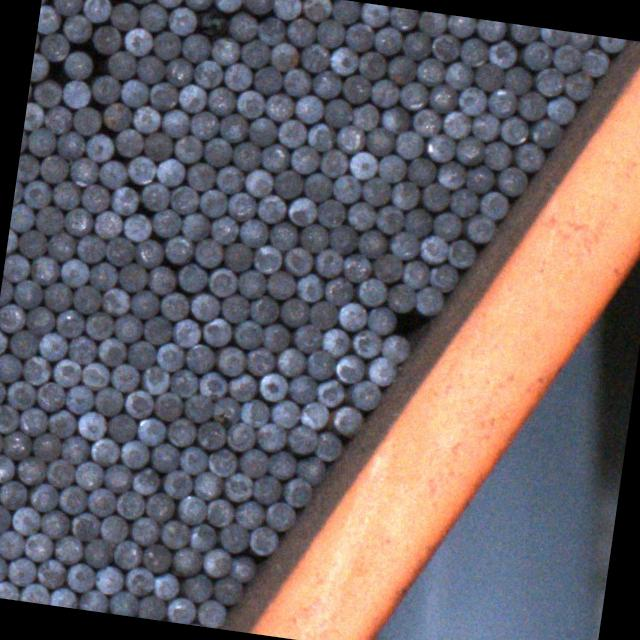tool: (448, 185, 481, 218), (348, 379, 382, 411), (214, 344, 247, 376), (298, 222, 330, 255), (58, 255, 90, 288), (75, 409, 107, 442), (33, 205, 65, 238), (222, 472, 255, 504), (232, 499, 264, 532), (180, 572, 213, 604), (304, 346, 336, 379), (496, 165, 528, 197), (276, 296, 308, 328), (272, 168, 304, 200), (332, 352, 364, 384), (282, 244, 314, 276), (226, 422, 258, 454), (484, 86, 516, 118), (534, 65, 566, 97), (246, 116, 278, 148), (314, 198, 346, 230), (264, 501, 296, 533), (238, 446, 270, 478), (247, 524, 279, 556), (258, 140, 290, 172), (82, 536, 114, 568), (314, 18, 346, 50), (388, 228, 420, 260), (232, 319, 264, 351), (364, 126, 396, 158), (266, 448, 298, 480), (454, 133, 486, 165), (164, 416, 196, 448), (457, 35, 489, 67), (206, 446, 238, 478), (68, 154, 100, 186), (281, 477, 313, 509), (370, 251, 402, 283), (132, 237, 164, 269), (158, 290, 190, 322), (144, 264, 176, 296), (520, 39, 552, 71), (151, 390, 183, 422), (342, 21, 374, 53), (166, 4, 198, 36), (562, 69, 594, 101), (254, 422, 286, 454), (120, 210, 152, 242), (356, 228, 388, 260), (96, 158, 128, 190), (84, 130, 116, 162), (330, 404, 362, 436), (256, 14, 288, 46), (300, 169, 332, 201), (322, 274, 354, 306), (551, 43, 583, 75), (142, 132, 174, 164), (139, 542, 171, 574), (170, 545, 202, 577), (294, 452, 326, 484), (133, 54, 165, 86), (64, 382, 96, 414), (286, 424, 318, 456), (83, 309, 114, 342), (328, 222, 359, 255), (29, 253, 60, 286), (374, 203, 405, 236), (401, 28, 432, 61), (37, 508, 70, 539), (15, 456, 48, 487), (107, 49, 138, 82), (528, 118, 562, 148), (195, 421, 227, 452), (384, 53, 416, 84), (254, 192, 286, 223), (84, 487, 116, 518), (222, 241, 254, 272), (275, 118, 306, 150), (233, 88, 264, 120), (292, 322, 323, 354), (56, 484, 88, 515), (360, 174, 391, 206), (68, 509, 99, 541), (12, 278, 43, 310), (337, 300, 368, 332), (154, 340, 186, 371), (160, 468, 192, 499), (193, 238, 224, 270), (152, 208, 183, 240), (340, 72, 371, 104), (341, 252, 372, 284), (95, 334, 126, 366), (196, 598, 227, 630), (293, 92, 324, 124), (142, 315, 174, 346), (101, 463, 132, 495), (243, 166, 274, 198), (159, 106, 190, 138), (307, 300, 338, 332), (125, 566, 156, 598), (109, 184, 140, 216), (385, 282, 416, 314), (64, 560, 95, 592), (514, 90, 546, 121), (17, 226, 48, 258), (78, 183, 110, 214), (424, 133, 456, 164), (206, 265, 237, 297), (208, 36, 239, 68), (106, 412, 137, 444), (113, 126, 144, 158), (226, 191, 258, 222), (218, 293, 250, 324), (200, 316, 231, 348), (183, 341, 214, 373), (126, 338, 157, 370), (8, 329, 40, 360), (1, 429, 32, 461), (212, 574, 244, 605), (169, 184, 200, 216), (93, 562, 124, 594), (323, 96, 354, 128), (68, 334, 99, 366), (148, 442, 180, 473), (50, 178, 81, 210), (143, 490, 174, 522), (264, 269, 296, 300), (45, 230, 76, 262), (92, 384, 123, 416), (239, 398, 271, 429), (512, 140, 544, 171), (128, 288, 159, 320), (54, 128, 85, 160), (201, 546, 232, 578), (126, 154, 158, 185), (26, 482, 58, 513), (112, 313, 143, 345), (418, 234, 449, 266), (546, 93, 578, 124), (162, 56, 193, 88), (217, 521, 248, 553), (63, 50, 94, 82), (286, 194, 316, 227), (36, 379, 66, 412), (331, 173, 362, 204), (61, 78, 92, 109), (414, 286, 445, 317), (76, 234, 107, 265), (238, 39, 269, 70), (270, 398, 301, 429), (39, 154, 70, 185), (208, 215, 239, 246), (429, 262, 460, 293), (193, 59, 224, 90), (487, 39, 518, 70), (167, 367, 198, 398), (163, 234, 194, 265), (170, 317, 201, 348), (447, 237, 478, 268), (122, 27, 153, 58), (299, 41, 330, 72), (367, 355, 398, 386), (72, 105, 103, 136), (23, 304, 54, 335), (435, 160, 466, 191), (263, 90, 294, 121), (352, 327, 383, 358), (481, 140, 512, 171), (17, 407, 48, 438), (176, 494, 207, 525), (31, 431, 62, 462), (431, 211, 462, 242), (479, 190, 510, 221), (38, 331, 69, 362), (250, 474, 281, 505), (40, 281, 71, 312), (62, 13, 93, 44), (122, 388, 153, 419), (129, 514, 160, 545), (26, 126, 57, 157), (365, 305, 396, 336), (102, 100, 133, 131), (137, 1, 168, 32), (328, 44, 359, 75), (46, 408, 77, 439), (379, 103, 410, 134), (41, 32, 72, 63), (288, 374, 318, 406), (498, 114, 530, 144), (111, 538, 141, 570), (6, 379, 36, 411), (104, 235, 134, 267), (226, 371, 256, 403), (238, 218, 268, 250), (23, 530, 53, 562), (50, 358, 82, 388), (200, 138, 232, 168), (334, 124, 364, 156), (473, 62, 505, 92), (218, 112, 248, 144), (90, 74, 120, 106), (180, 210, 210, 242), (188, 292, 220, 322), (458, 84, 488, 116), (99, 512, 129, 544), (140, 364, 170, 396), (426, 82, 456, 114), (182, 391, 212, 423), (319, 146, 349, 178), (176, 262, 208, 292), (230, 140, 260, 172), (356, 278, 388, 308), (118, 260, 148, 292), (464, 164, 494, 196), (228, 10, 258, 42), (180, 32, 210, 64), (210, 396, 240, 428), (136, 416, 167, 446), (73, 460, 104, 490), (348, 149, 378, 180), (72, 284, 103, 314), (163, 595, 194, 625), (286, 17, 316, 48), (421, 182, 451, 213), (310, 68, 340, 99), (115, 490, 146, 520), (118, 438, 149, 468), (390, 180, 421, 210), (379, 332, 410, 362), (314, 431, 344, 462), (177, 444, 208, 474), (372, 26, 403, 56), (222, 60, 252, 91), (252, 243, 282, 274), (275, 347, 305, 378), (6, 556, 37, 586), (402, 260, 432, 291), (87, 260, 118, 290), (295, 272, 325, 303), (404, 208, 434, 239), (109, 362, 140, 392), (248, 295, 278, 326), (268, 222, 299, 252), (314, 247, 344, 278), (63, 206, 93, 237), (579, 46, 610, 76), (54, 308, 84, 339), (320, 326, 350, 357), (282, 66, 312, 97), (11, 505, 41, 536), (22, 178, 53, 208), (178, 81, 208, 112), (139, 182, 170, 212), (204, 85, 234, 116), (111, 1, 141, 32), (185, 162, 216, 192), (159, 520, 190, 550), (305, 122, 335, 153), (192, 471, 222, 502), (53, 534, 84, 564), (46, 458, 76, 489), (268, 42, 299, 72), (464, 213, 494, 244), (148, 80, 179, 110), (316, 377, 346, 408), (398, 80, 428, 110), (370, 78, 400, 108), (431, 34, 461, 64), (173, 135, 203, 165), (198, 188, 228, 218), (376, 152, 406, 182), (347, 202, 377, 232), (214, 164, 244, 194), (188, 110, 218, 140), (406, 156, 436, 186), (415, 56, 445, 86), (20, 354, 50, 384), (394, 130, 424, 160), (236, 268, 266, 298), (80, 360, 110, 390), (410, 108, 440, 138), (258, 372, 288, 402), (290, 144, 320, 174), (90, 436, 120, 466), (99, 286, 129, 316), (94, 210, 124, 240), (470, 112, 500, 142), (44, 104, 74, 134), (152, 30, 182, 60), (502, 65, 532, 95), (119, 79, 149, 109), (155, 156, 185, 186), (358, 52, 388, 82), (441, 110, 471, 140), (204, 498, 234, 528), (130, 104, 160, 134), (252, 64, 282, 94), (262, 322, 292, 352), (36, 558, 66, 588), (246, 346, 276, 376), (444, 60, 474, 90), (58, 434, 88, 464), (130, 466, 160, 496), (34, 78, 64, 108), (198, 370, 228, 400), (92, 24, 122, 54), (189, 521, 218, 552), (108, 590, 140, 618), (299, 399, 329, 428), (152, 571, 181, 601), (0, 478, 27, 510), (352, 102, 381, 131), (2, 252, 30, 282), (229, 554, 257, 584), (138, 594, 168, 622), (38, 2, 64, 34), (358, 2, 388, 28), (417, 10, 447, 36), (78, 589, 110, 613), (10, 202, 35, 232), (0, 301, 24, 332), (0, 528, 24, 559), (445, 14, 475, 38), (16, 154, 40, 183), (331, 0, 360, 24), (83, 0, 113, 23), (20, 582, 50, 605), (476, 19, 506, 42), (387, 7, 416, 30), (302, 0, 332, 22), (0, 351, 21, 382), (50, 586, 78, 609), (271, 0, 301, 21), (0, 403, 20, 434), (23, 101, 44, 130), (30, 52, 50, 82), (509, 24, 539, 44), (538, 28, 568, 47), (53, 0, 85, 16), (595, 36, 625, 53), (566, 32, 594, 49), (241, 0, 273, 14), (0, 276, 14, 305), (0, 453, 13, 484), (0, 579, 19, 600), (212, 0, 242, 12), (0, 504, 11, 535), (6, 229, 18, 256), (182, 0, 213, 10), (155, 0, 186, 9), (13, 178, 23, 205), (0, 552, 8, 584), (34, 29, 43, 56), (0, 329, 8, 357), (0, 377, 6, 407), (41, 0, 50, 10)
tool_b: (194, 6, 230, 38)
void: (392, 309, 429, 342)
